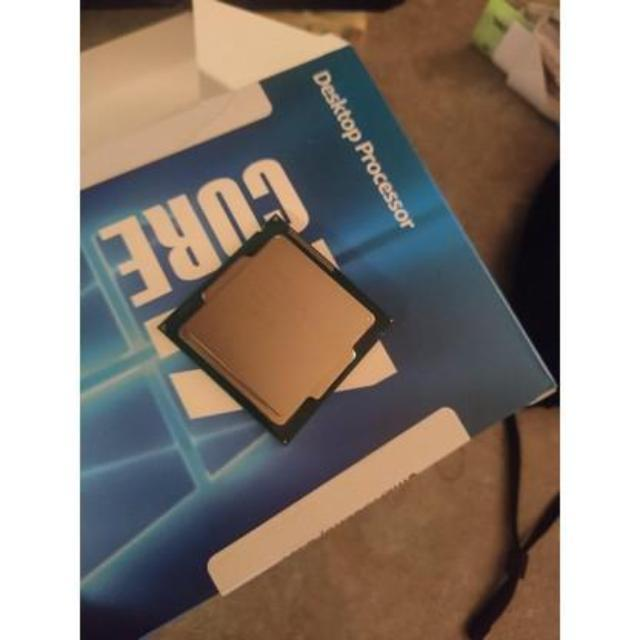CPU: (175, 226, 378, 428)
